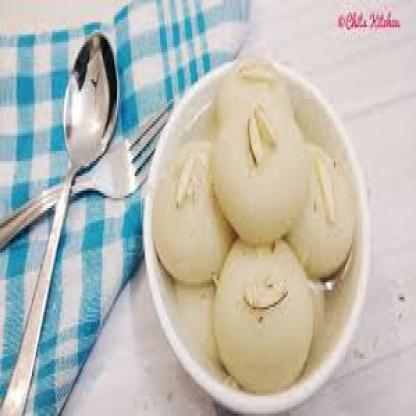rasgulla: (214, 238, 313, 394), (211, 88, 308, 240), (152, 140, 238, 282), (282, 144, 354, 282), (215, 57, 294, 127)
